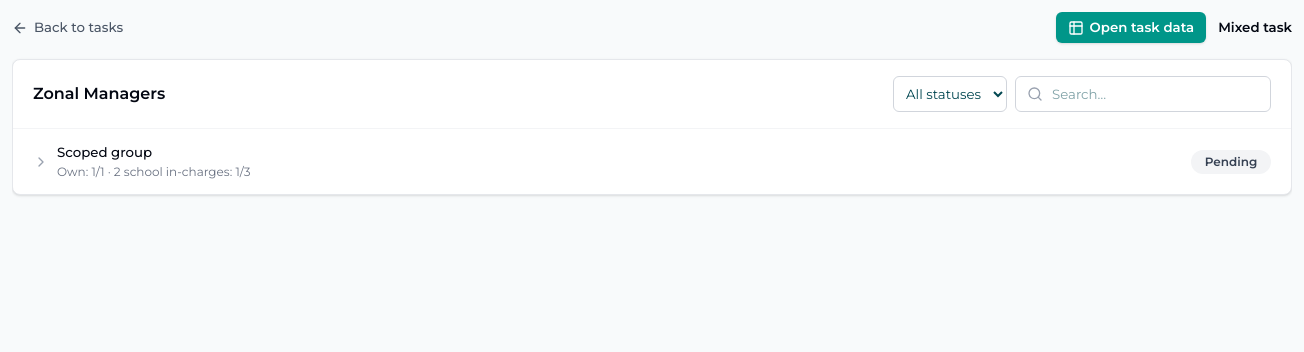
Scenario: shows a mixed ZM’s own vs in-charge progress and labels their own row first
Expected: the text "Own: 1/1 · 2 school in-charges: 1/3" is shown, [57,164,251,180]
Click the button "Scoped group Own: 1/1 · 2 school in-charges: 1/3 Pending" at (105, 152), box [17,129,1287,194]
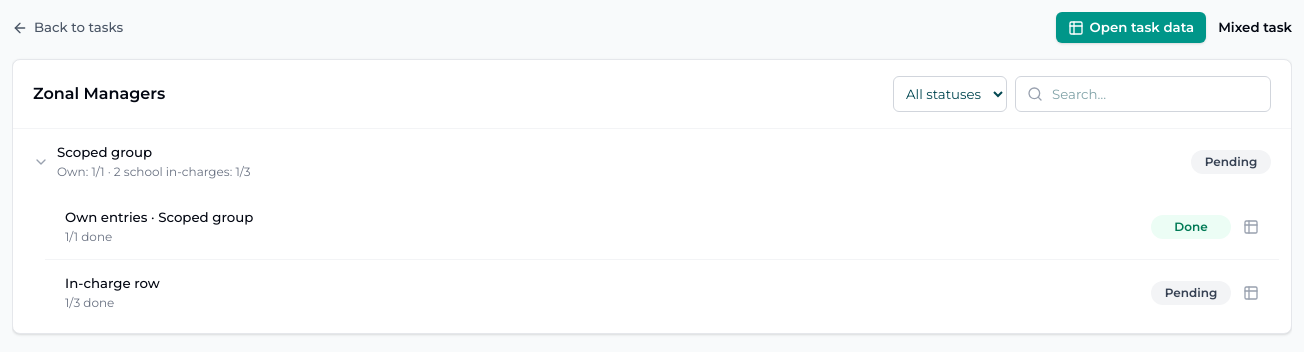
Now the text "Own entries · Scoped group" is shown, box [65,208,253,227]
